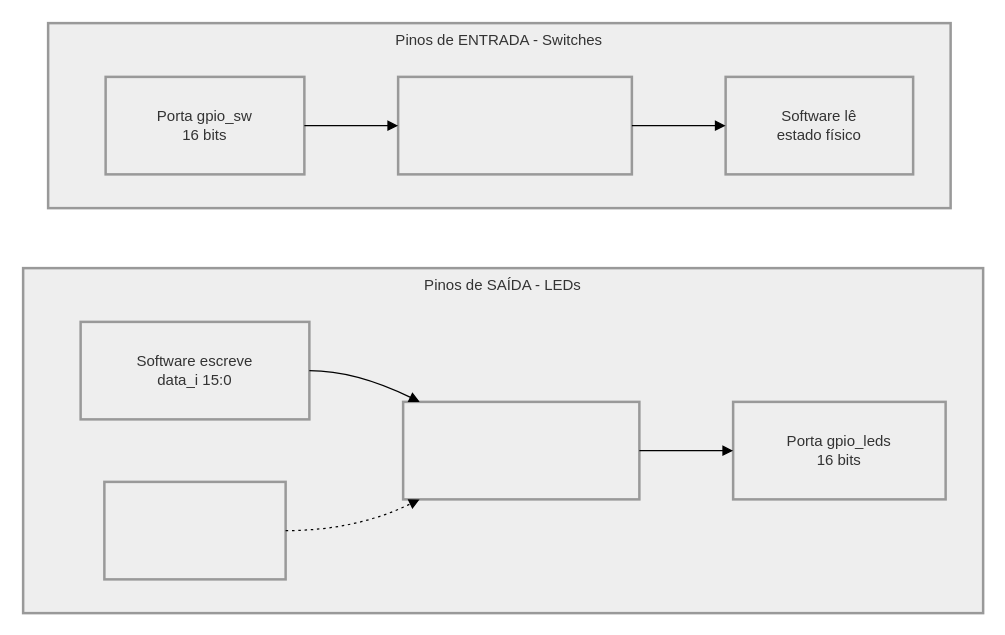
Some shapes in this 1005 by 635 pixel diagram are drawn without their labels. The box of each missing label's shape, as (x1, y1, x2, y2) in pixels:
data_o 15:0 Processo Síncrono: (396, 75, 632, 175)
Registrador r_leds 16 bits: (401, 400, 640, 500)
Software lê data_o 15:0: (102, 480, 286, 580)
